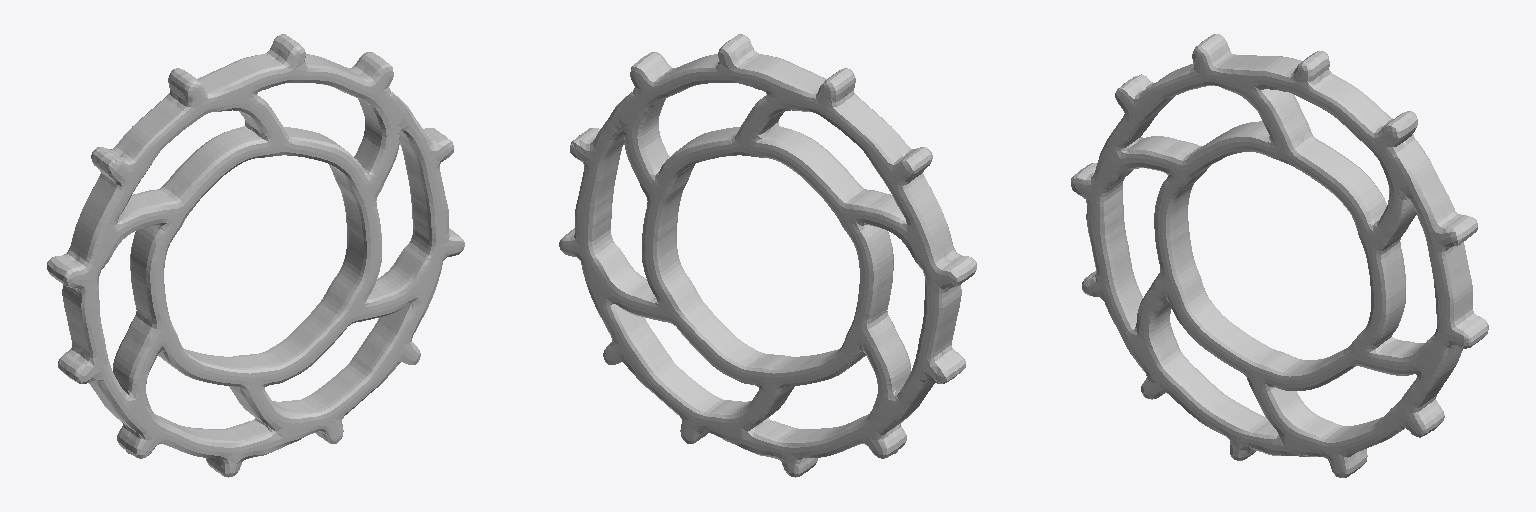
File: Engrane 6.OBJ
3 renders of one model, left to right at view 1: azimuth 30°, elevation 25°; view 2: azimuth 150°, elevation 25°; view 3: azimuth 330°, elevation 25°, orthographic.
Visible parts, largest first — view 1: Group50292; view 2: Group50292; view 3: Group50292.
Boxes of the visible parts, box(x1,y1,x2,y2) form: Group50292: box(47, 34, 464, 477); Group50292: box(559, 34, 976, 477); Group50292: box(1071, 34, 1488, 477).
Size of the model in its own units: 1.67 by 1.65 by 0.1538.